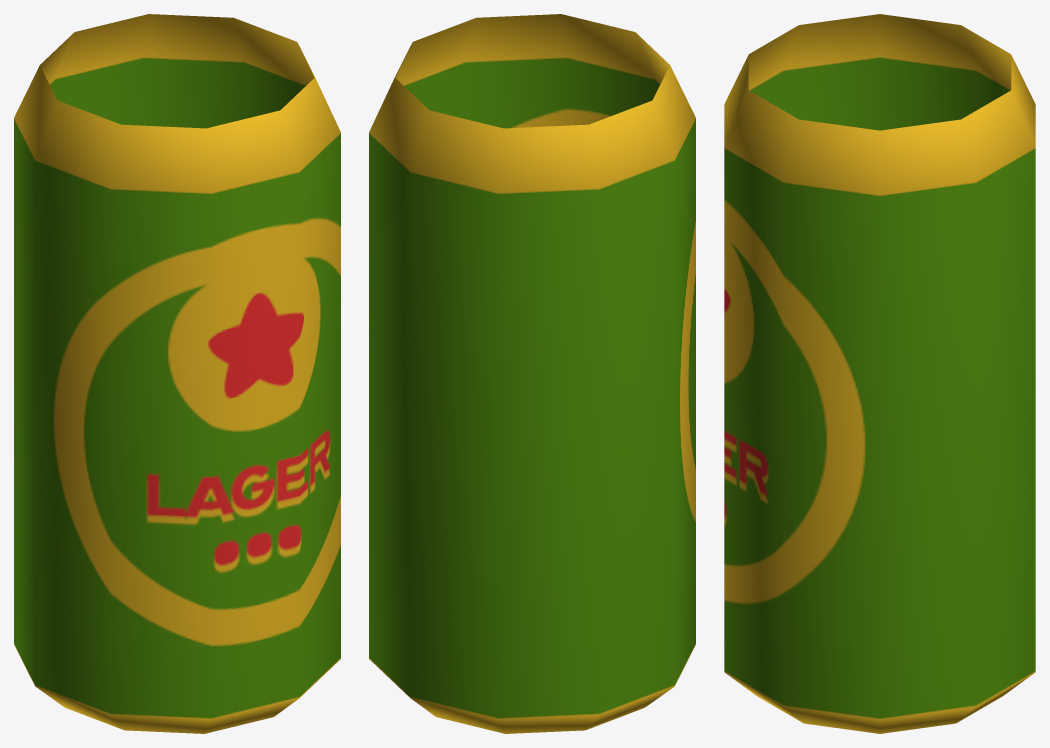
The model's file is King_Can_03.fbx.
The picture shows the model from 3 angles, left to right: view 1: azimuth 30°, elevation 25°; view 2: azimuth 150°, elevation 25°; view 3: azimuth 270°, elevation 25°; orthographic projection.
Parts seen in each view (by area): view 1: King_Can_03; view 2: King_Can_03; view 3: King_Can_03.
Boxes of the visible parts, x1=… form: King_Can_03: x1=14, y1=14, x2=340, y2=733; King_Can_03: x1=369, y1=14, x2=695, y2=733; King_Can_03: x1=724, y1=14, x2=1035, y2=733.
Bounding box in the file's own units: 35.85 × 73.31 × 34.1.
